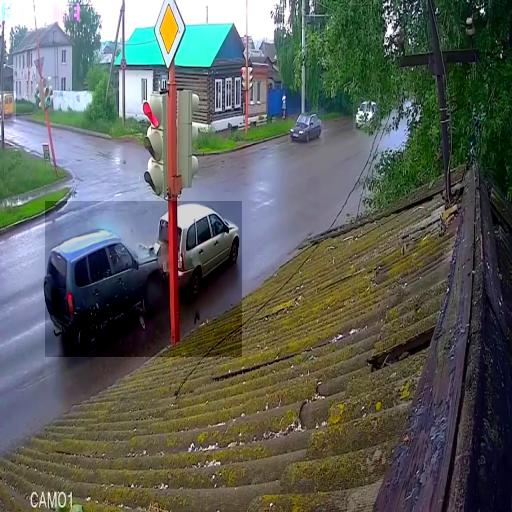小汽车: (288, 108, 324, 145), (353, 95, 380, 131), (0, 91, 16, 121)
小汽车撞小汽车: (45, 201, 242, 357)
